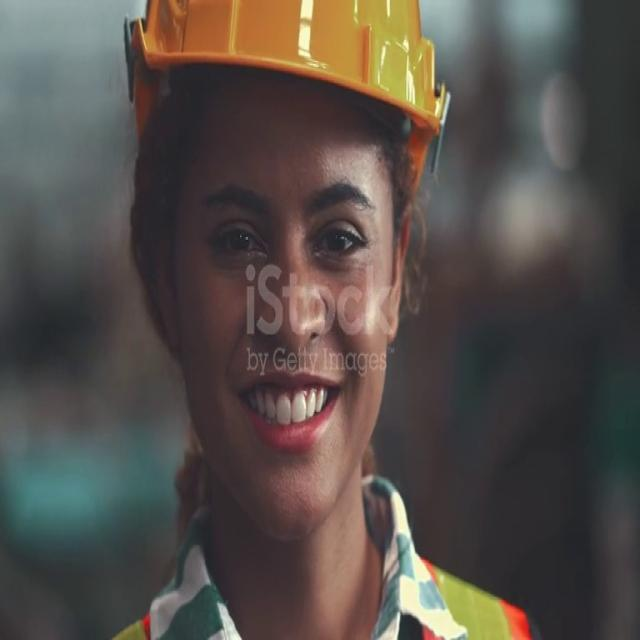capacete: (109, 2, 459, 209)
